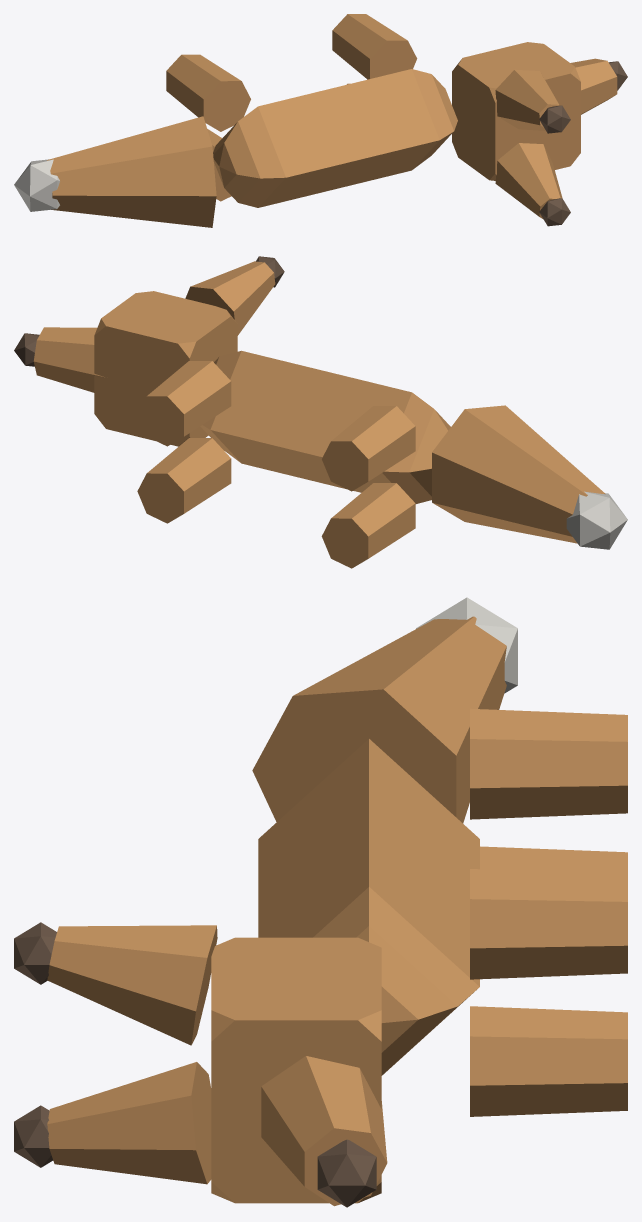
3 views of the same model, one above another, from view 1: azimuth 30°, elevation 25°; view 2: azimuth 150°, elevation 25°; view 3: azimuth 270°, elevation 25° (orthographic). The views are drawn at different scales.
Parts seen in each view (by area): view 1: part0, part8, part1, part12, part10, part5, part4, part9, part2, part6, part7, part13; view 2: part0, part8, part1, part11, part10, part13, part12, part2, part4, part9, part3; view 3: part0, part1, part8, part11, part12, part10, part5, part4, part2, part13, part3, part9 (+2 smaller).
Part boxes in pixels (<box>): part0: <box>213,69,457,207</box>; part8: <box>47,116,216,227</box>; part1: <box>452,42,580,180</box>; part12: <box>166,54,250,131</box>; part10: <box>332,14,417,79</box>; part5: <box>495,143,562,218</box>; part4: <box>495,69,559,130</box>; part9: <box>14,159,59,211</box>; part2: <box>570,58,617,114</box>; part6: <box>539,105,570,133</box>; part7: <box>539,198,570,226</box>; part13: <box>207,129,231,201</box>; part0: <box>200,350,450,503</box>; part8: <box>432,405,605,543</box>; part1: <box>94,291,237,446</box>; part11: <box>137,438,231,523</box>; part10: <box>137,361,231,446</box>; part13: <box>321,483,415,568</box>; part12: <box>322,406,415,491</box>; part2: <box>33,327,105,392</box>; part4: <box>185,261,275,335</box>; part9: <box>566,491,627,549</box>; part3: <box>14,333,39,366</box>; part0: <box>258,739,479,1075</box>; part1: <box>211,937,381,1203</box>; part8: <box>252,616,506,823</box>; part11: <box>470,1006,627,1116</box>; part12: <box>470,708,627,819</box>; part10: <box>470,869,627,979</box>; part5: <box>47,1062,211,1184</box>; part4: <box>47,925,217,1045</box>; part2: <box>261,1056,387,1206</box>; part13: <box>480,846,627,874</box>; part3: <box>317,1139,376,1207</box>; part9: <box>416,597,517,693</box>.
Size of the model in its own units: 4.13 by 0.8637 by 1.95.
